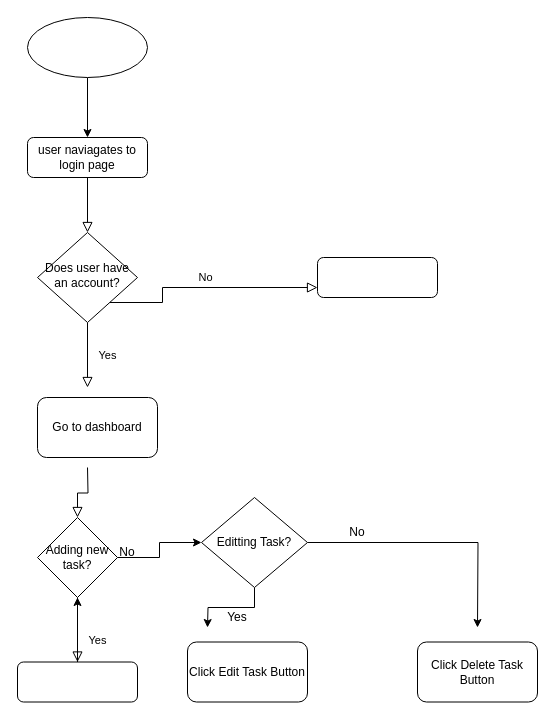
The diagram is 555 pixels wide and 720 high, and some of its shapes have lost their labels. The centre of each missing label's shape, as x and y in pixels:
"Click Add New Task Button" belongs at pixel 77 681.
"Go to registration page" belongs at pixel 377 277.
"User clicks on webpage" belongs at pixel 87 47.
